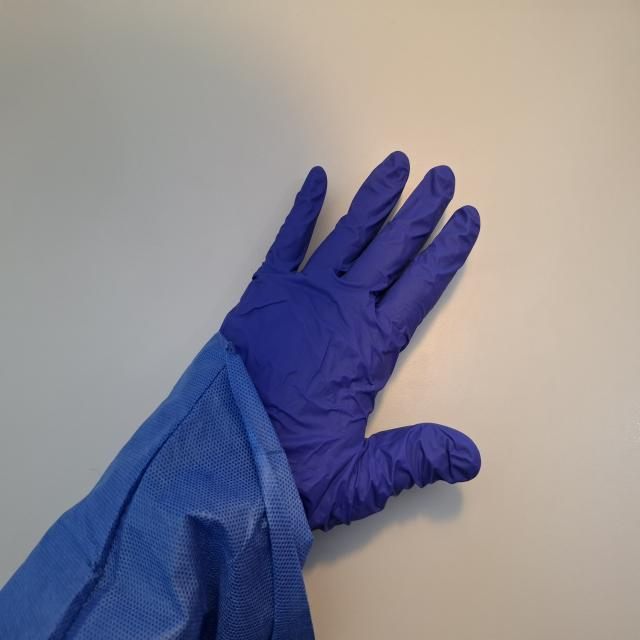glove_on: (214, 147, 486, 537)
